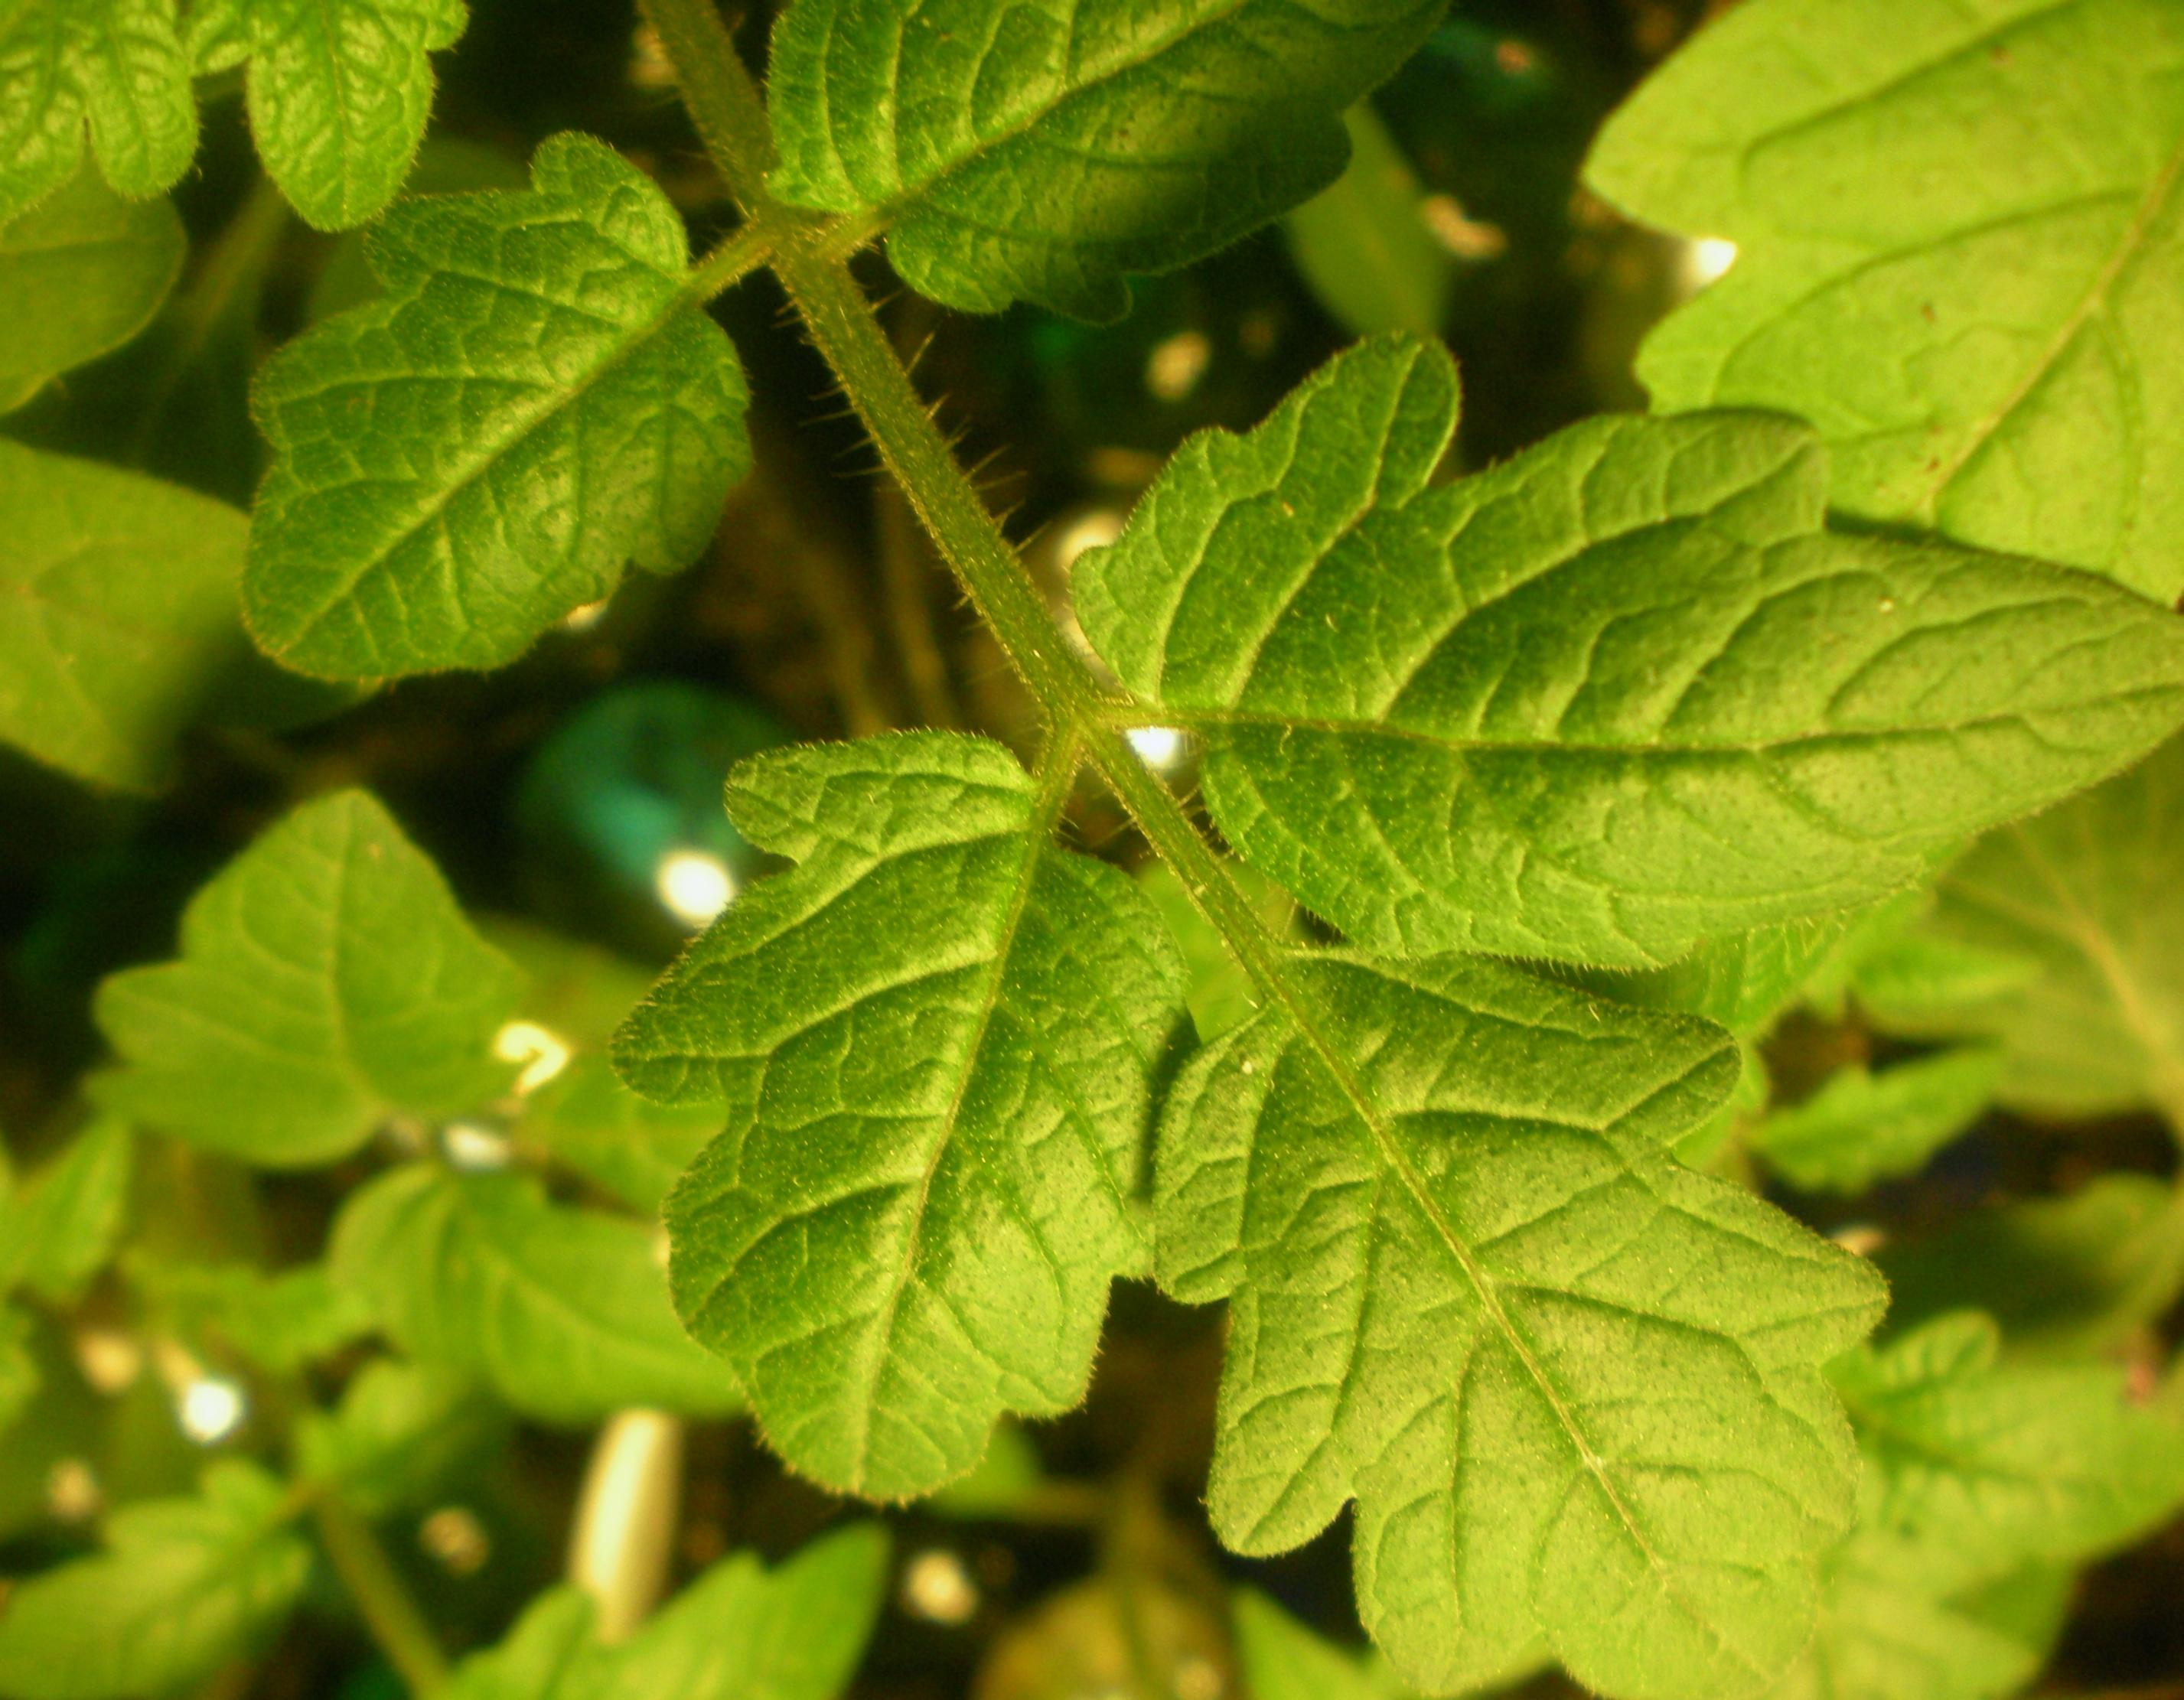Tomato leaf: (1051, 346, 2184, 952), (1168, 913, 1888, 1700), (612, 645, 1221, 1526), (188, 181, 819, 732), (753, 0, 1480, 349), (83, 776, 576, 1175), (324, 1152, 766, 1466), (418, 1523, 922, 1700)
